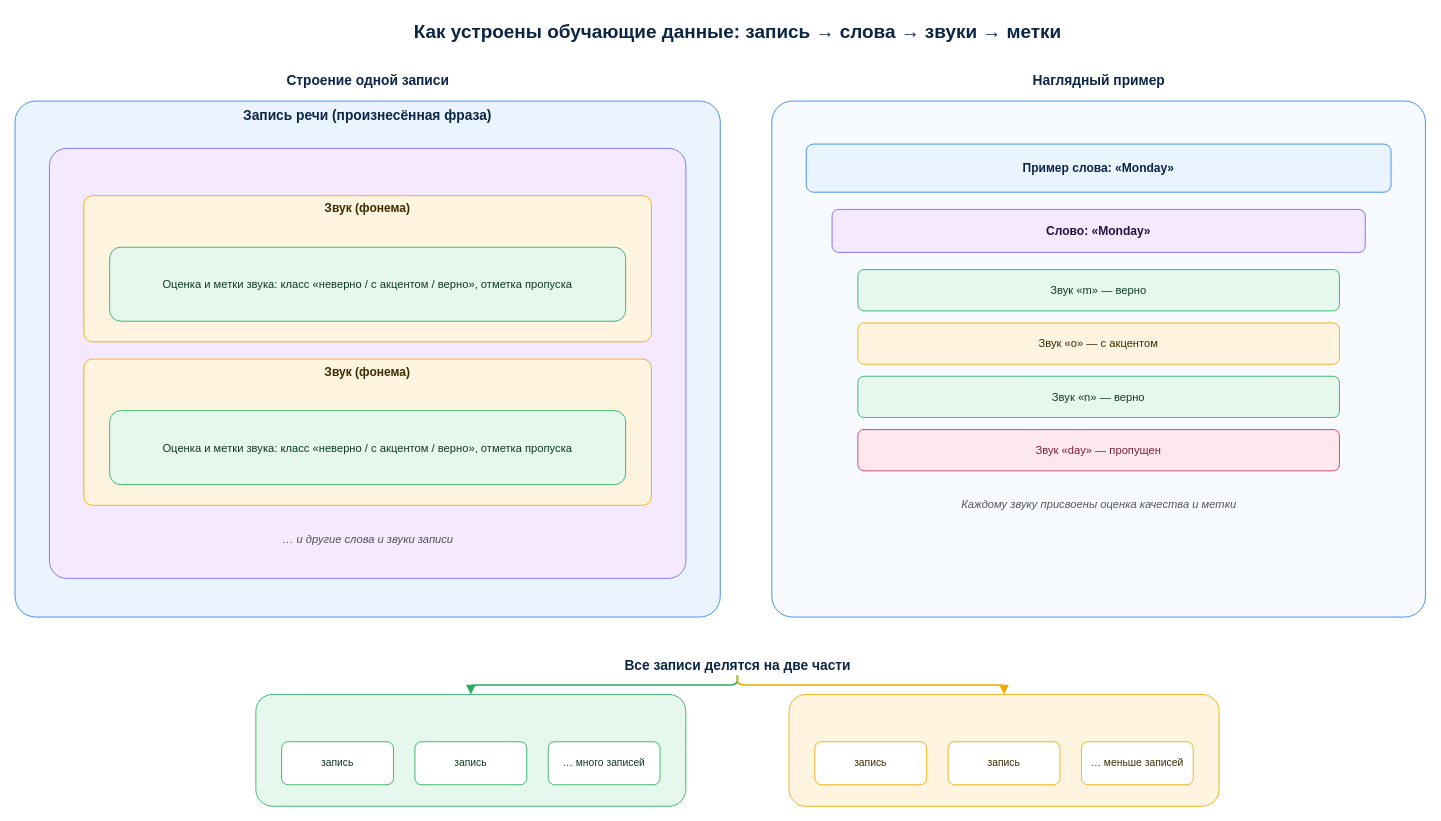
This 1441x821 diagram has some shape labels left out. The box of each missing label's shape, as (x1, y1, x2, y2) in pixels:
Обучающая выборка: (255, 694, 686, 806)
Пример записи: (771, 100, 1425, 617)
Проверочная выборка: (788, 694, 1219, 806)
Слово: (49, 147, 686, 578)
